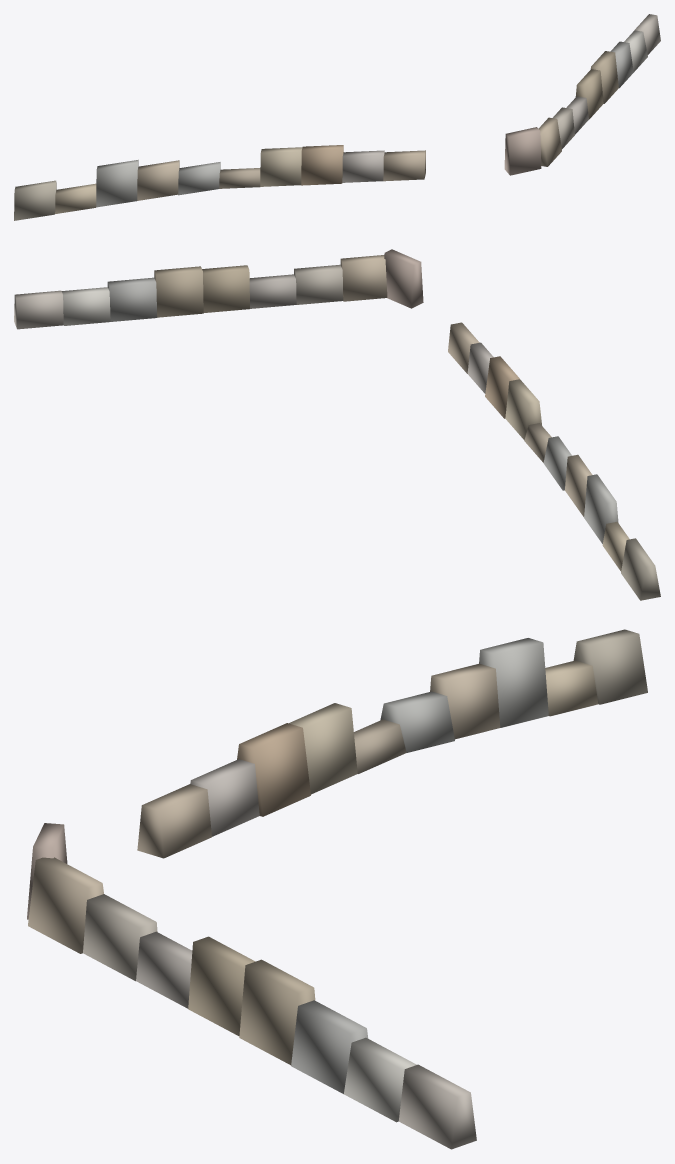
The model's file is farm_-30_-33_collision.glb.
The picture shows the model from 3 angles, top to bottom: view 1: azimuth 30°, elevation 25°; view 2: azimuth 150°, elevation 25°; view 3: azimuth 270°, elevation 25°; orthographic projection. The views are drawn at different scales.
Parts seen in each view (by area): view 1: geometry_0; view 2: geometry_0; view 3: geometry_0.
Part boxes in pixels (<box>): geometry_0: <box>14,14,660,220</box>; geometry_0: <box>14,249,660,600</box>; geometry_0: <box>27,629,647,1149</box>.
Bounding box in the file's own units: 26.27 × 4.3 × 11.67.
